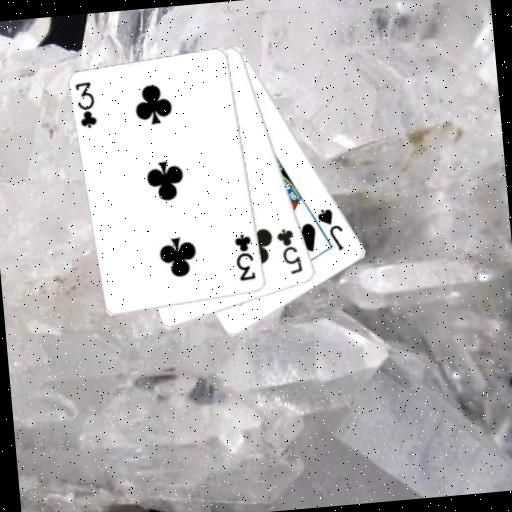3C: (71, 79, 99, 132), (231, 231, 258, 284)
5C: (273, 224, 306, 277)
JS: (314, 204, 347, 255)
